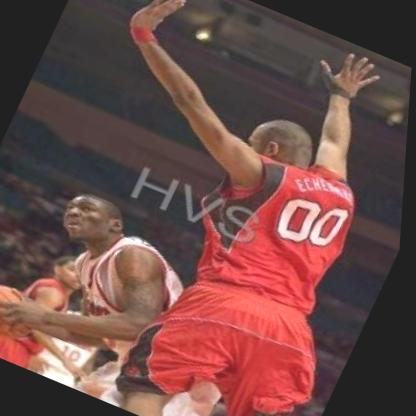basketball: (0, 269, 53, 350)
